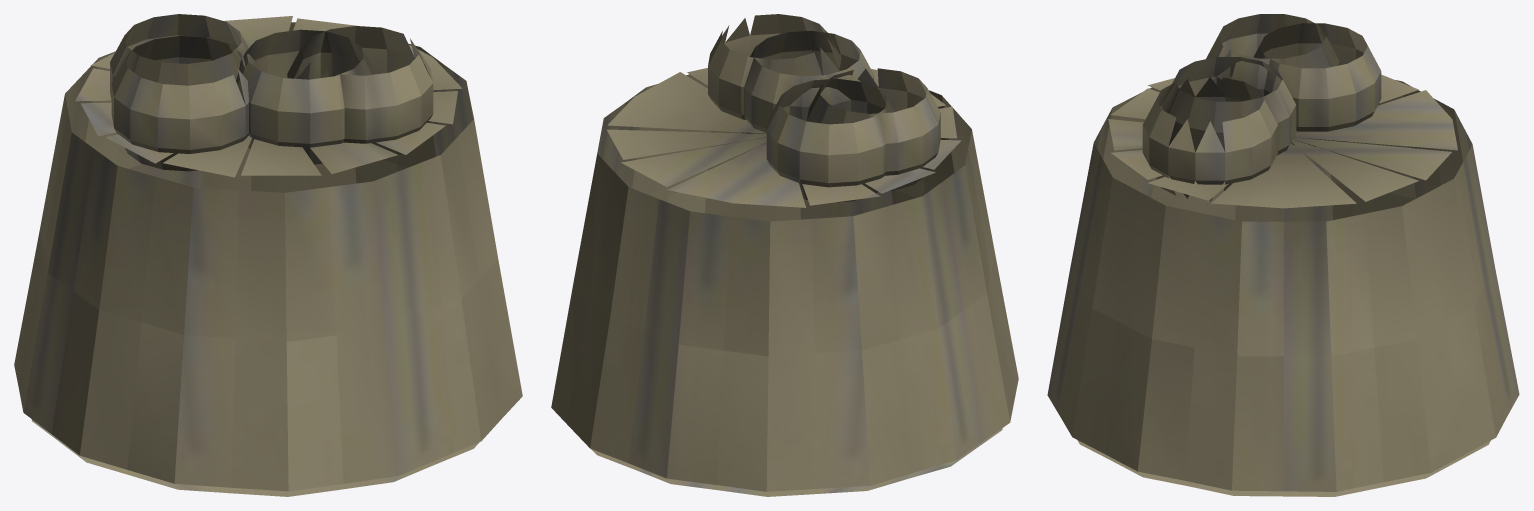
Rendered from p_basket.glb.
3 views of the same model, side by side, from view 1: azimuth 30°, elevation 25°; view 2: azimuth 150°, elevation 25°; view 3: azimuth 270°, elevation 25° (orthographic). The views are drawn at different scales.
Parts seen in each view (by area): view 1: basket; view 2: basket; view 3: basket.
Part boxes in pixels (box(x1,y1,x2,y2)): basket: box(14, 14, 522, 496); basket: box(551, 14, 1018, 496); basket: box(1047, 14, 1519, 496).
Size of the model in its own units: 0.4645 by 0.3656 by 0.4762.
Materials: 1 (1 with a texture image).
